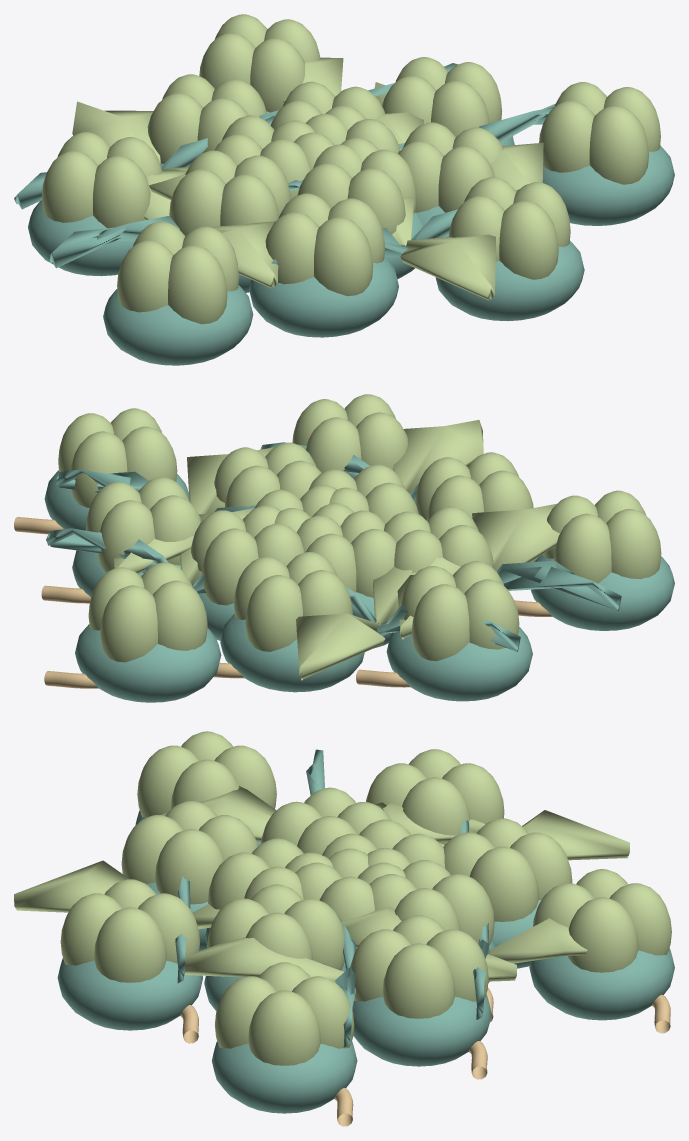
File: bio_oxygen_reef_25_near.glb
3 renders of one model, top to bottom at view 1: azimuth 30°, elevation 25°; view 2: azimuth 150°, elevation 25°; view 3: azimuth 270°, elevation 25°, orthographic. The views are drawn at different scales.
Visible parts, largest first — view 1: Lobed gas sac.048, Lobed gas sac.052, Lobed gas sac.028, Lobed gas sac.036, Lobed gas sac.040, Lobed gas sac.016, Lobed gas sac.044, Photosynthetic cushion.012, Photosynthetic cushion.007, Lobed gas sac.032, Lobed gas sac.020, Lobed gas sac.024 (+16 smaller); view 2: Lobed gas sac.044, Lobed gas sac.036, Lobed gas sac.048, Lobed gas sac.024, Lobed gas sac.052, Photosynthetic cushion.011, Lobed gas sac.032, Lobed gas sac.040, Photosynthetic cushion.009, Lobed gas sac.012, Lobed gas sac.028, Low buttress leaf.005 (+23 smaller); view 3: Lobed gas sac.052, Lobed gas sac.040, Lobed gas sac.032, Lobed gas sac.044, Lobed gas sac.028, Lobed gas sac.024, Lobed gas sac.048, Lobed gas sac.036, Lobed gas sac.020, Photosynthetic cushion.013, Photosynthetic cushion.011, Photosynthetic cushion.010 (+17 smaller).
Boxes of the visible parts, x1,y1,x2,y2 form: Lobed gas sac.048: [117, 221, 239, 324]; Lobed gas sac.052: [539, 82, 660, 184]; Lobed gas sac.028: [265, 193, 384, 296]; Lobed gas sac.036: [42, 132, 162, 228]; Lobed gas sac.040: [448, 177, 570, 279]; Lobed gas sac.016: [169, 150, 290, 236]; Lobed gas sac.044: [199, 14, 320, 112]; Photosynthetic cushion.012: [103, 285, 253, 365]; Photosynthetic cushion.007: [249, 257, 398, 337]; Lobed gas sac.032: [382, 57, 502, 136]; Lobed gas sac.020: [398, 122, 503, 212]; Lobed gas sac.024: [147, 74, 266, 163]; Lobed gas sac.044: [88, 562, 207, 662]; Lobed gas sac.036: [401, 561, 519, 661]; Lobed gas sac.048: [543, 490, 661, 583]; Lobed gas sac.024: [234, 552, 352, 651]; Lobed gas sac.052: [58, 408, 177, 507]; Photosynthetic cushion.011: [75, 624, 221, 702]; Lobed gas sac.032: [85, 477, 200, 572]; Lobed gas sac.040: [292, 394, 407, 472]; Photosynthetic cushion.009: [386, 626, 532, 701]; Lobed gas sac.012: [191, 505, 303, 605]; Lobed gas sac.028: [415, 452, 533, 520]; Low buttress leaf.005: [296, 557, 460, 680]; Lobed gas sac.052: [215, 962, 354, 1065]; Lobed gas sac.040: [60, 879, 200, 982]; Lobed gas sac.032: [350, 915, 488, 1018]; Lobed gas sac.044: [533, 869, 671, 972]; Lobed gas sac.028: [121, 801, 257, 904]; Lobed gas sac.024: [443, 818, 572, 921]; Lobed gas sac.048: [137, 731, 276, 817]; Lobed gas sac.036: [366, 749, 504, 844]; Lobed gas sac.020: [207, 884, 344, 970]; Photosynthetic cushion.013: [212, 1041, 357, 1113]; Photosynthetic cushion.011: [529, 948, 674, 1020]; Photosynthetic cushion.010: [57, 958, 202, 1030].
Size of the model in its own units: 2.38 by 0.45 by 2.18.
